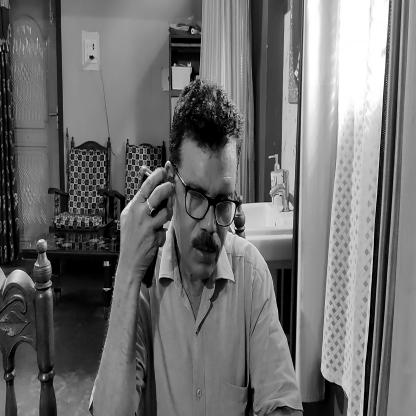Distracted: (166, 67, 240, 288)
